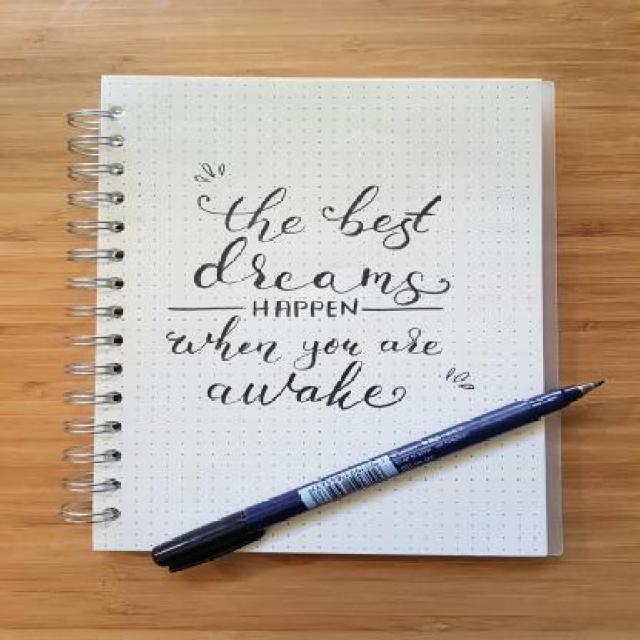book: (99, 75, 564, 557)
pen: (147, 374, 602, 573)
